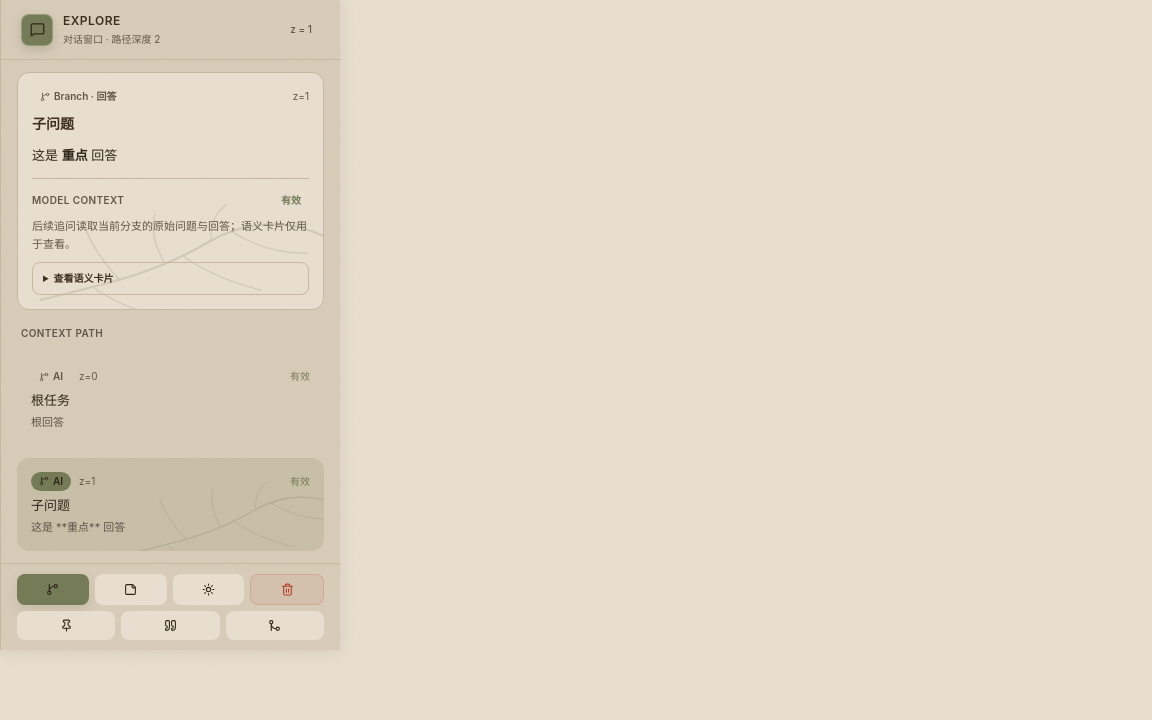
Scenario: InspectorSidebar › cancelling the prune dialog keeps the node
The width and height of the screenshot is (1152, 720).
Click the 4th button named "修剪" at {"x": 287, "y": 589}, box [250,574,324,605]
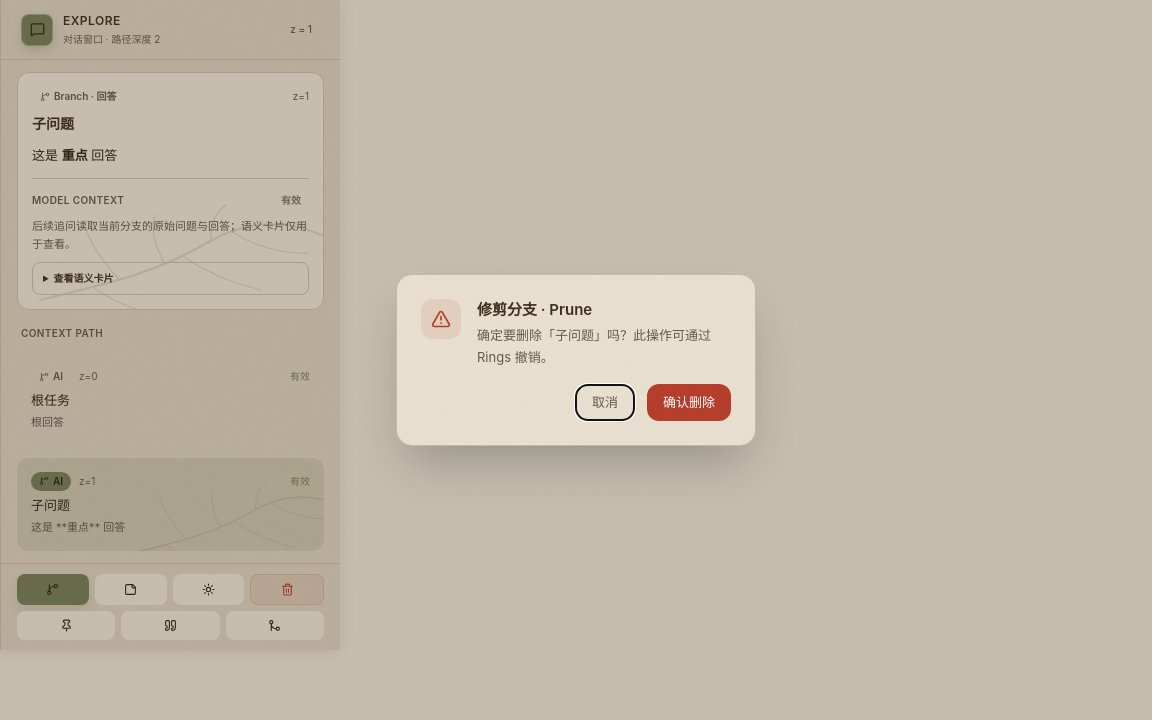
Click the button "取消" at {"x": 605, "y": 402}, box [575,384,635,421]
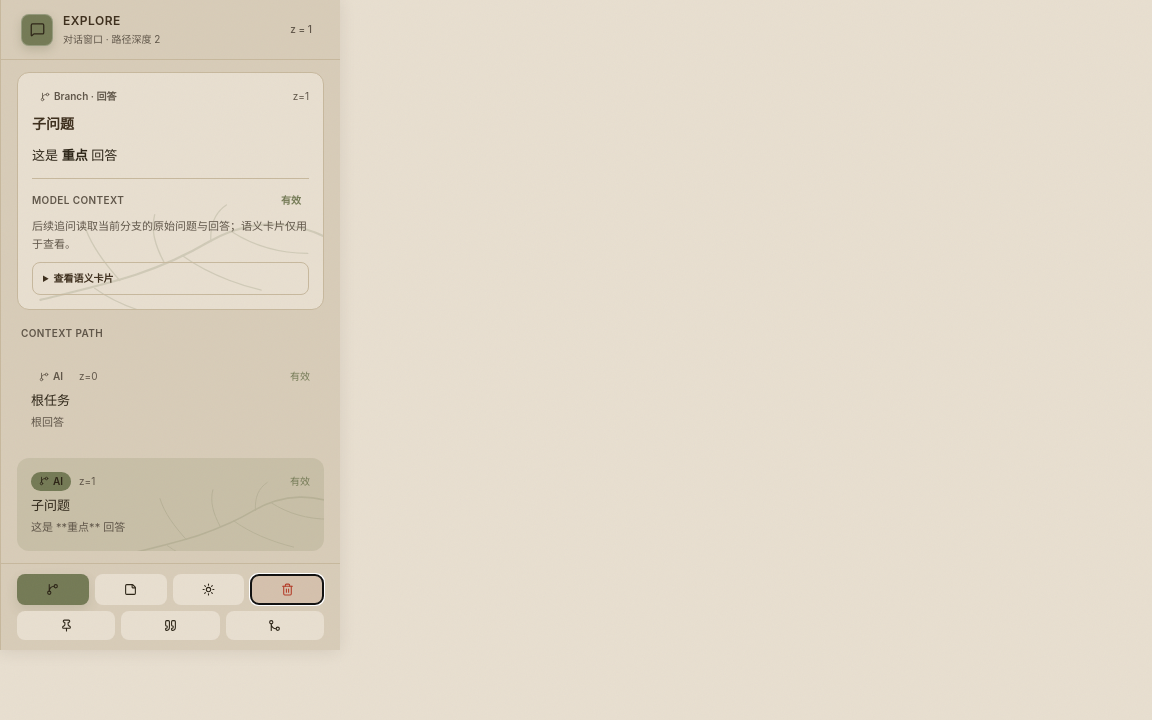
Check: the heading "修剪分支 · Prune" is gone
